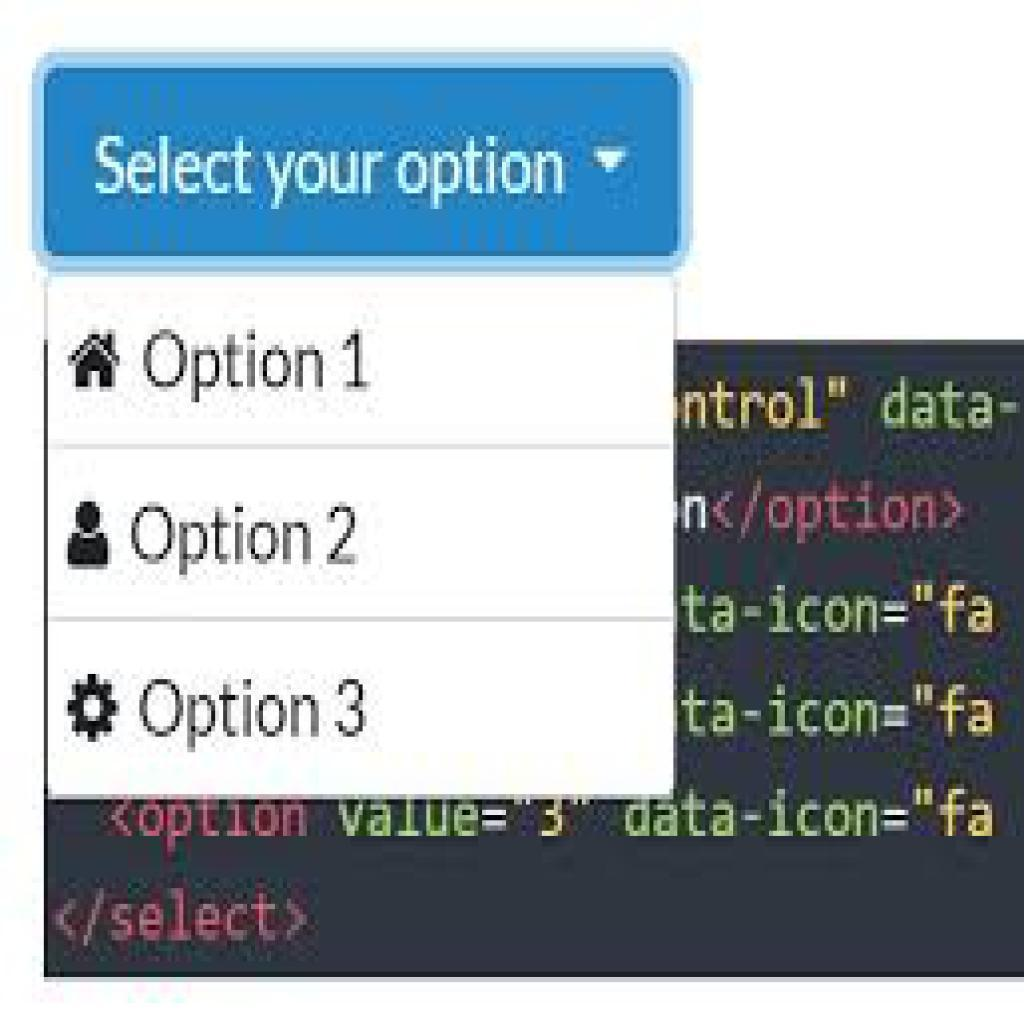dropdown: (33, 52, 694, 273)
icon: (67, 325, 130, 398), (66, 491, 117, 577), (69, 665, 125, 740)
label: (129, 496, 363, 585), (146, 324, 381, 404), (142, 672, 380, 749)
